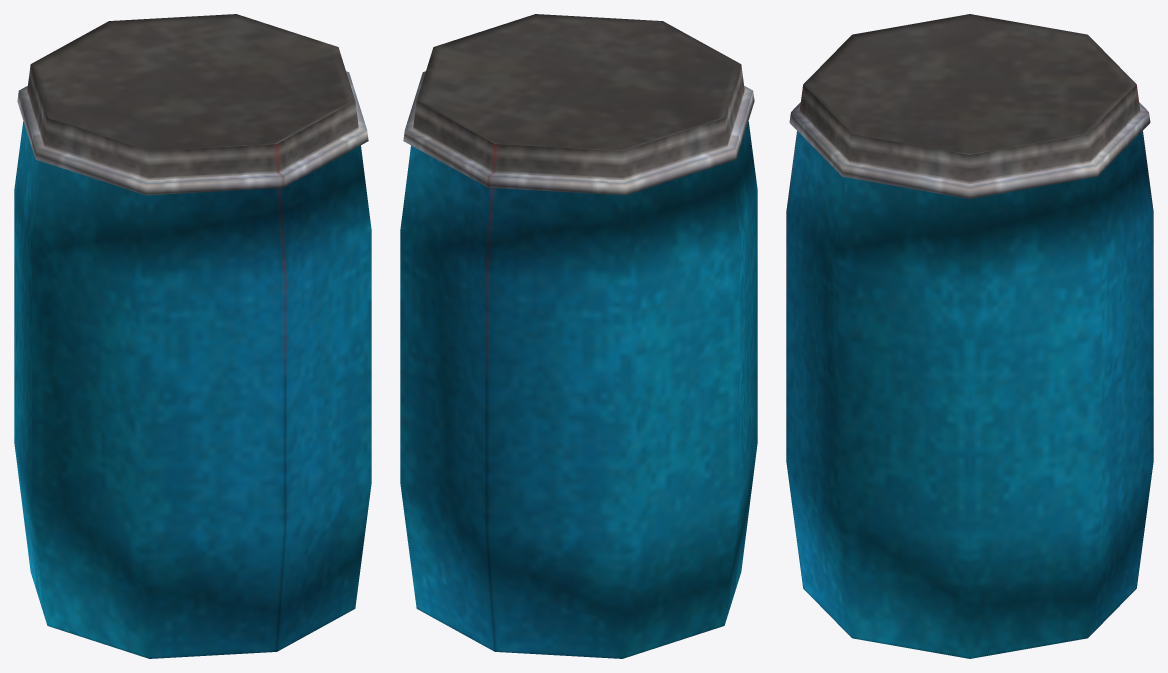
The model's file is barrelwater.glb.
3 renders of one model, left to right at view 1: azimuth 30°, elevation 25°; view 2: azimuth 150°, elevation 25°; view 3: azimuth 270°, elevation 25°, orthographic.
Parts seen in each view (by area): view 1: BarrelWater; view 2: BarrelWater; view 3: BarrelWater.
Boxes of the visible parts, box(x1,y1,x2,y2) form: BarrelWater: box(14, 14, 371, 658); BarrelWater: box(400, 14, 757, 658); BarrelWater: box(786, 14, 1153, 658).
Bounding box in the file's own units: 0.66 × 1 × 0.66.
1 material, 1 textured.
